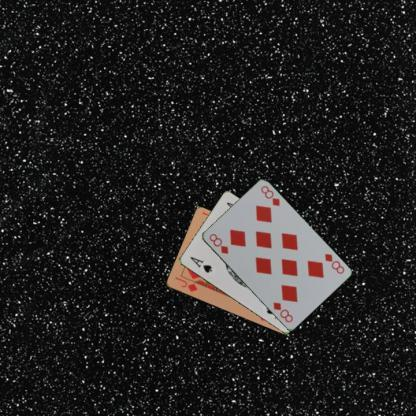8d: (206, 231, 230, 256), (322, 250, 346, 275)
As: (187, 254, 213, 274)
Jd: (172, 274, 198, 292)
